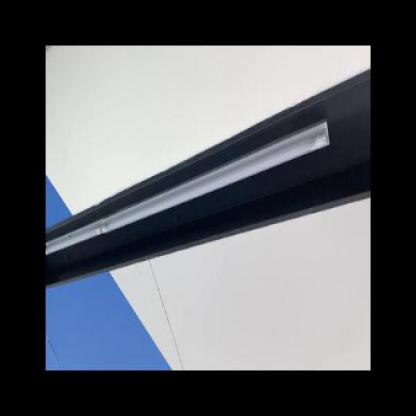light_off: (45, 97, 334, 296)
